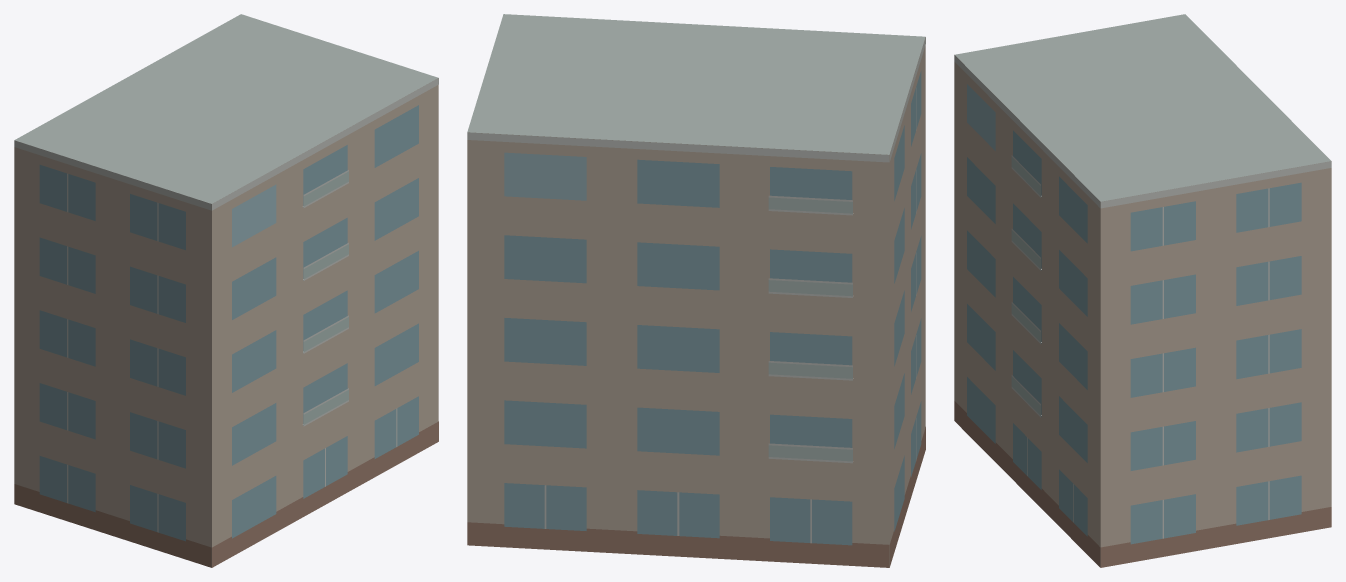
File: survey-upis-32996504.glb
3 renders of one model, left to right at view 1: azimuth 30°, elevation 25°; view 2: azimuth 150°, elevation 25°; view 3: azimuth 270°, elevation 25°, orthographic. The views are drawn at different scales.
Parts seen in each view (by area): view 1: survey-upis-32996504.tmp; view 2: survey-upis-32996504.tmp; view 3: survey-upis-32996504.tmp.
Boxes of the visible parts, x1,y1,x2,y2 form: survey-upis-32996504.tmp: (14,14,438,567); survey-upis-32996504.tmp: (467,14,925,567); survey-upis-32996504.tmp: (954,14,1331,567).
Bounding box in the file's own units: 14.52 × 13.2 × 12.33.
